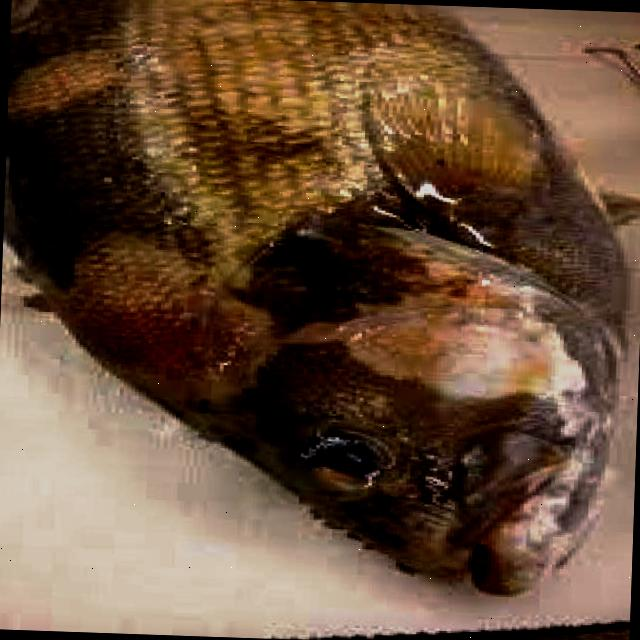Epizootic Ulcerative Syndrome -EUS-: (3, 0, 620, 594)
